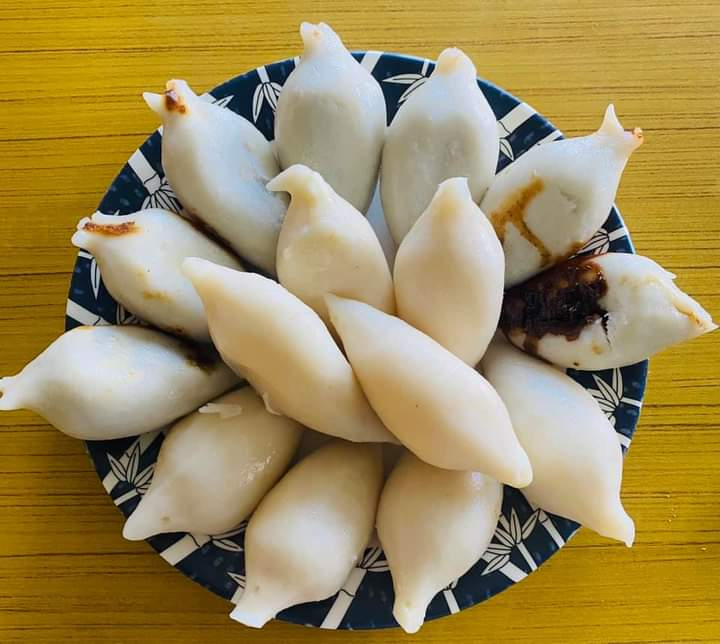yomari: (536, 96, 670, 220), (546, 421, 653, 560), (140, 60, 249, 189), (411, 376, 534, 489), (557, 277, 716, 363), (417, 173, 501, 330), (0, 333, 150, 419), (220, 520, 324, 634), (116, 456, 239, 549), (374, 504, 457, 640), (414, 34, 496, 163), (63, 193, 180, 276), (176, 243, 281, 334), (287, 14, 351, 151), (264, 159, 349, 251)
